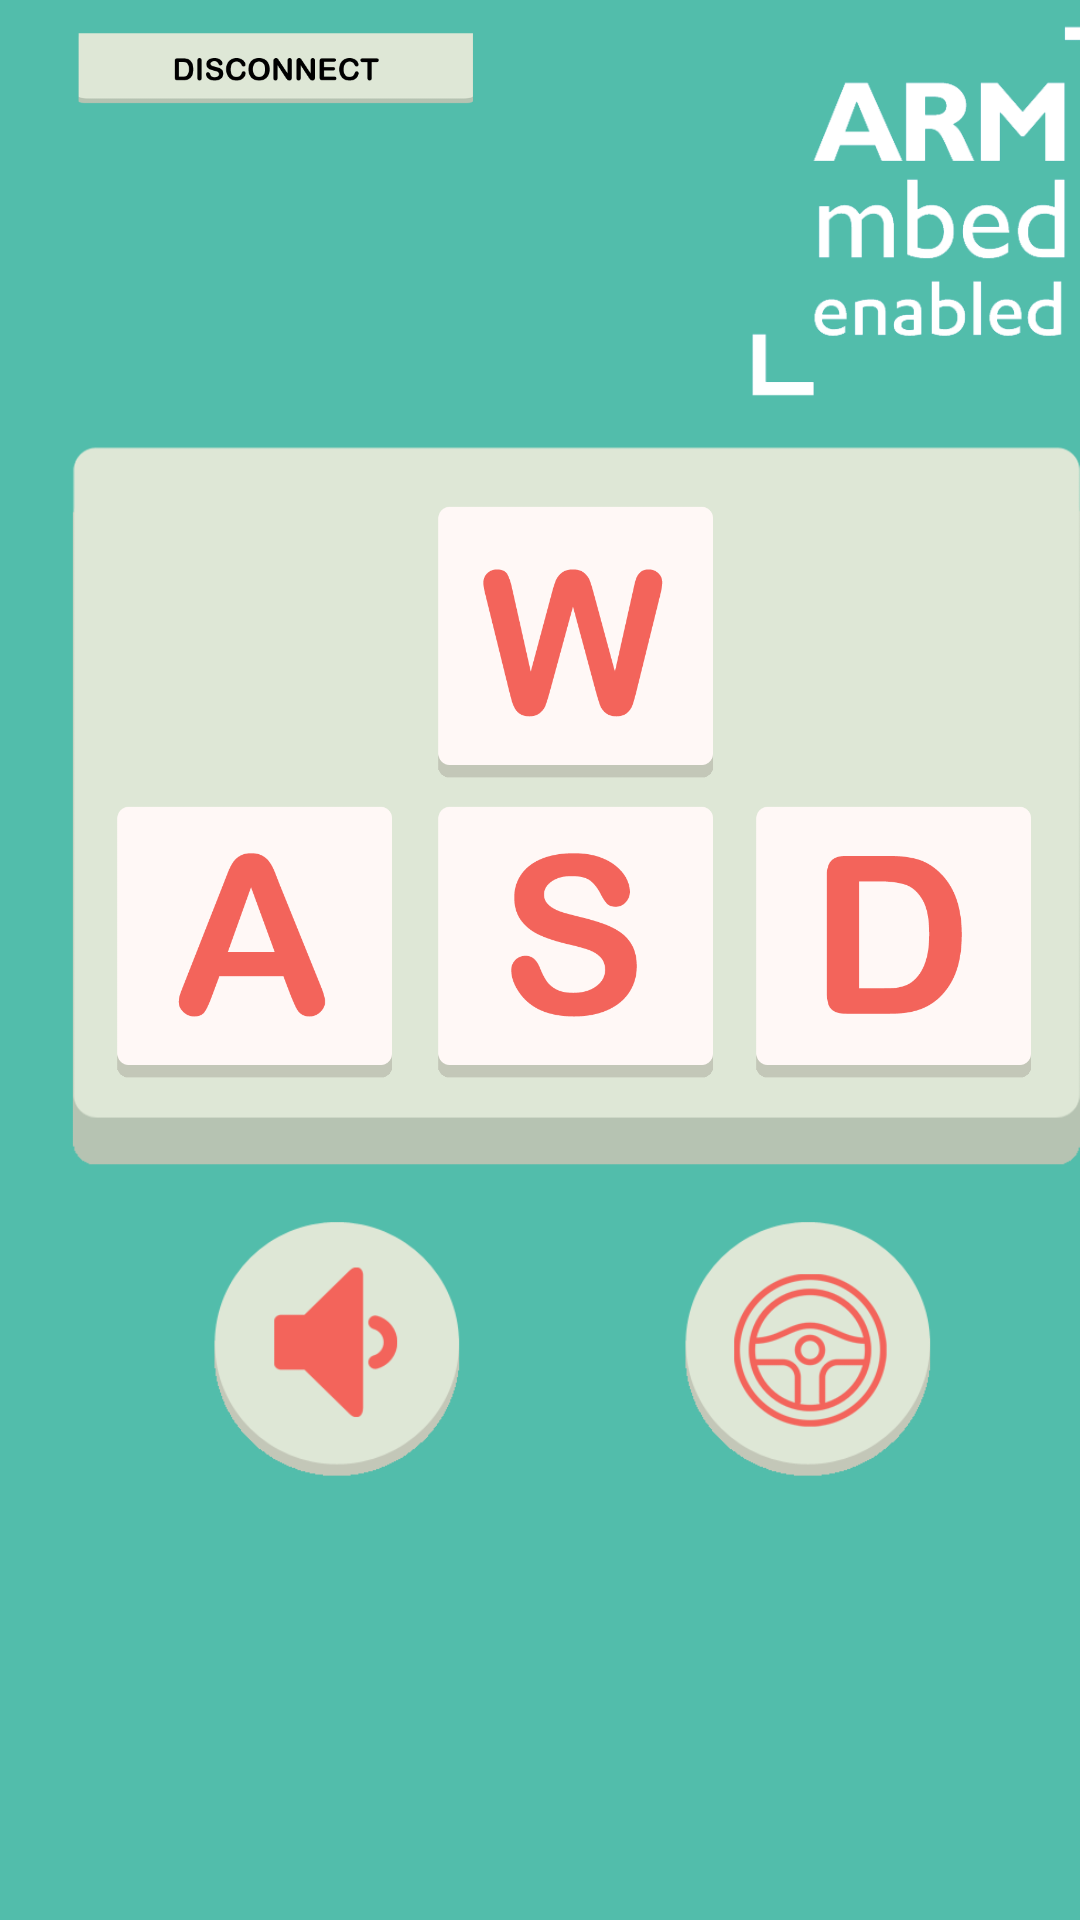

Icon click points for this 1080 × 1920 phone screenshot, format point (x, y):
guida: point (807, 1349)
